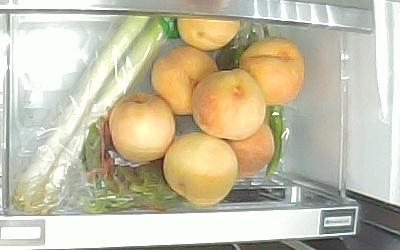peach: (163, 131, 238, 205), (192, 69, 267, 139), (108, 92, 177, 164), (151, 46, 220, 116), (240, 36, 306, 105), (224, 121, 274, 177), (175, 17, 240, 50)
